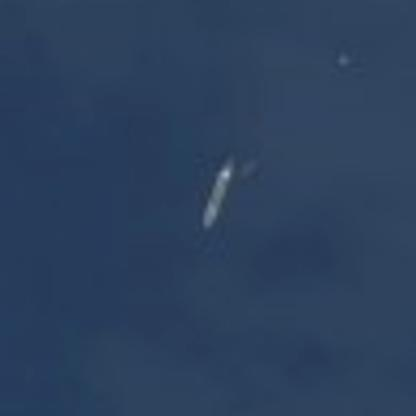ship: (194, 159, 236, 235)
